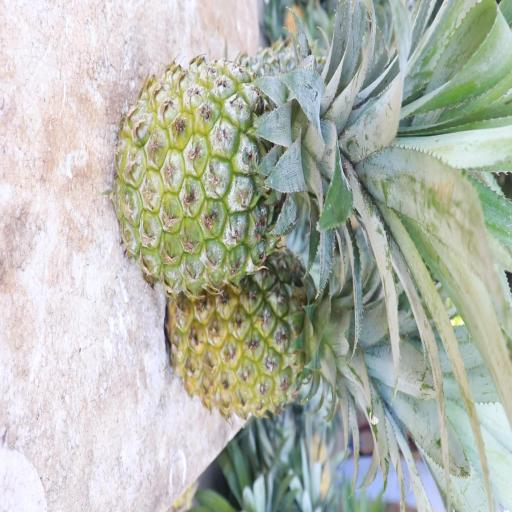------------------------------: (108, 52, 381, 302)
Pineapple - v8 v1: (160, 232, 396, 426)
